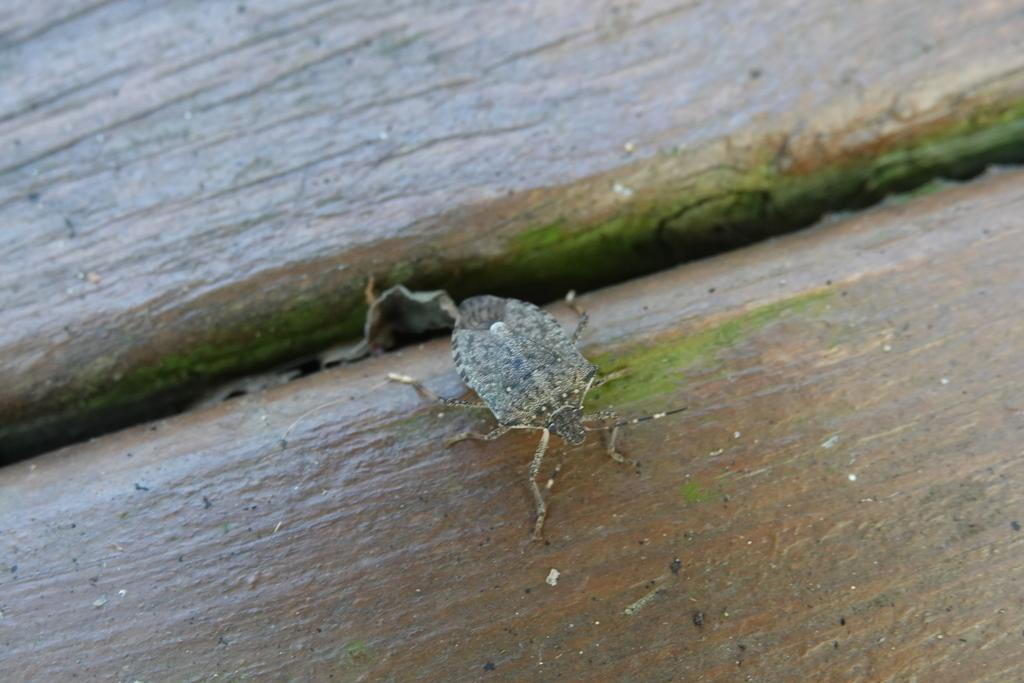stink_bugs: (354, 255, 712, 581)
